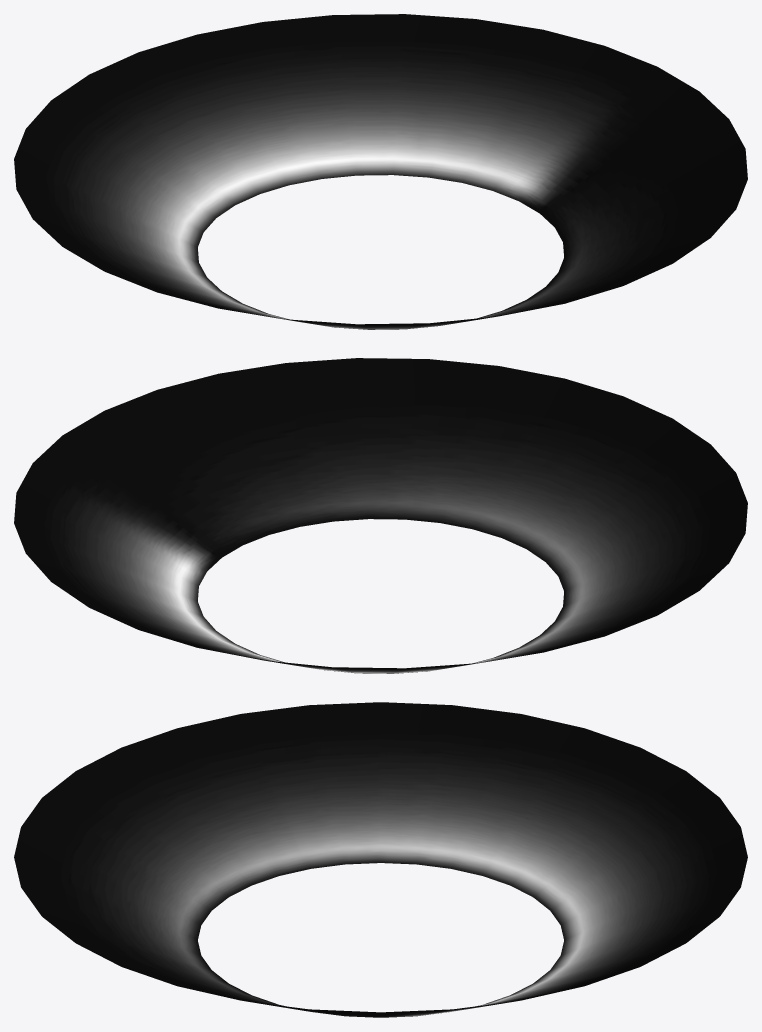
File: 0137_S_FX_chongwujiemian_c.glb
The picture shows the model from 3 angles, top to bottom: view 1: azimuth 30°, elevation 25°; view 2: azimuth 150°, elevation 25°; view 3: azimuth 270°, elevation 25°; orthographic projection.
Size of the model in its own units: 2.2 by 0.275 by 2.2.
Materials: 1 (1 with a texture image).
